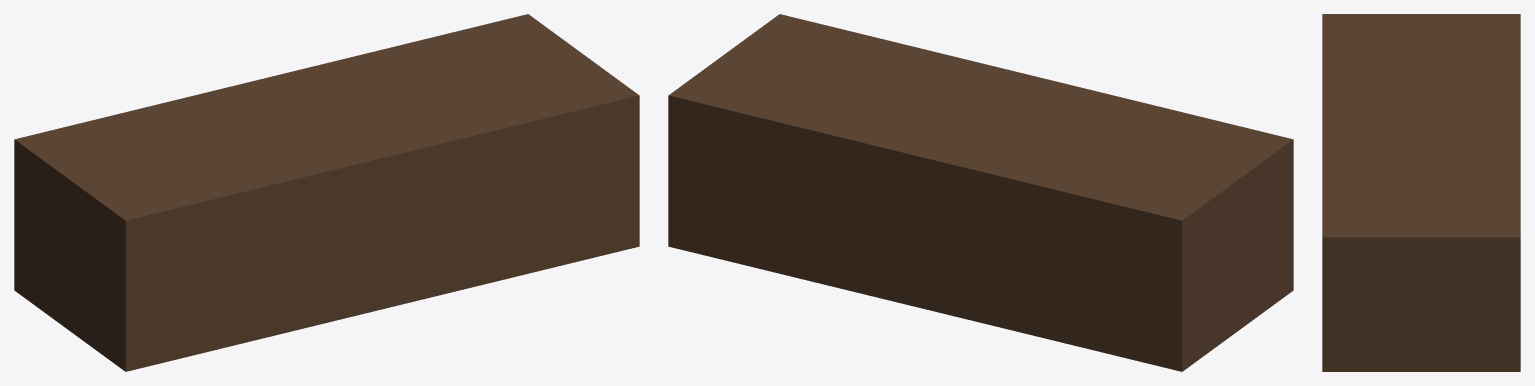
File: trough.glb
3 views of the same model, side by side, from view 1: azimuth 30°, elevation 25°; view 2: azimuth 150°, elevation 25°; view 3: azimuth 270°, elevation 25° (orthographic). The views are drawn at different scales.
Parts seen in each view (by area): view 1: trough; view 2: trough; view 3: trough.
Boxes of the visible parts, x1,y1,x2,y2 form: trough: (14, 14, 639, 371); trough: (668, 14, 1293, 371); trough: (1322, 14, 1520, 371).
Bounding box in the file's own units: 1.6 × 0.45 × 0.6.
